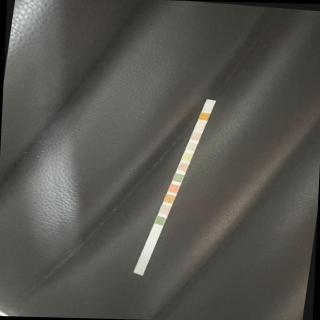mark: (155, 217, 165, 226), (160, 204, 169, 213), (178, 163, 187, 172), (187, 142, 197, 150), (199, 112, 209, 120), (165, 194, 173, 203), (173, 174, 182, 182), (170, 185, 178, 193), (204, 105, 212, 112), (196, 124, 204, 130), (192, 133, 199, 139), (183, 154, 191, 159)
